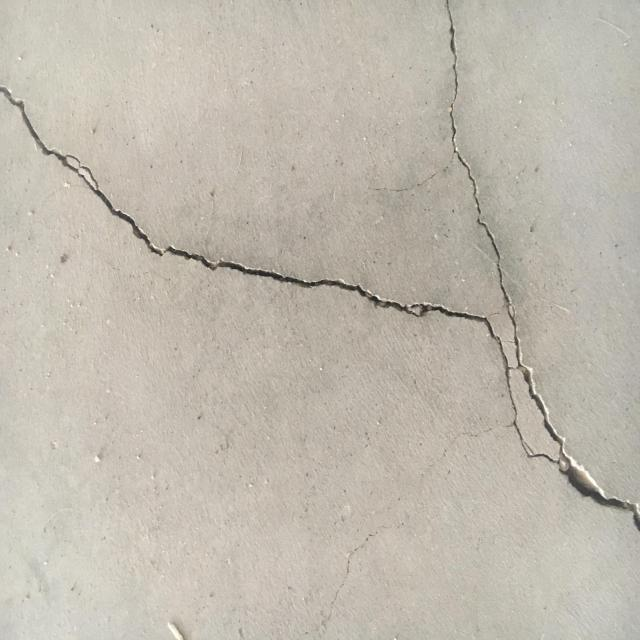Rachadura: (0, 0, 640, 537)
